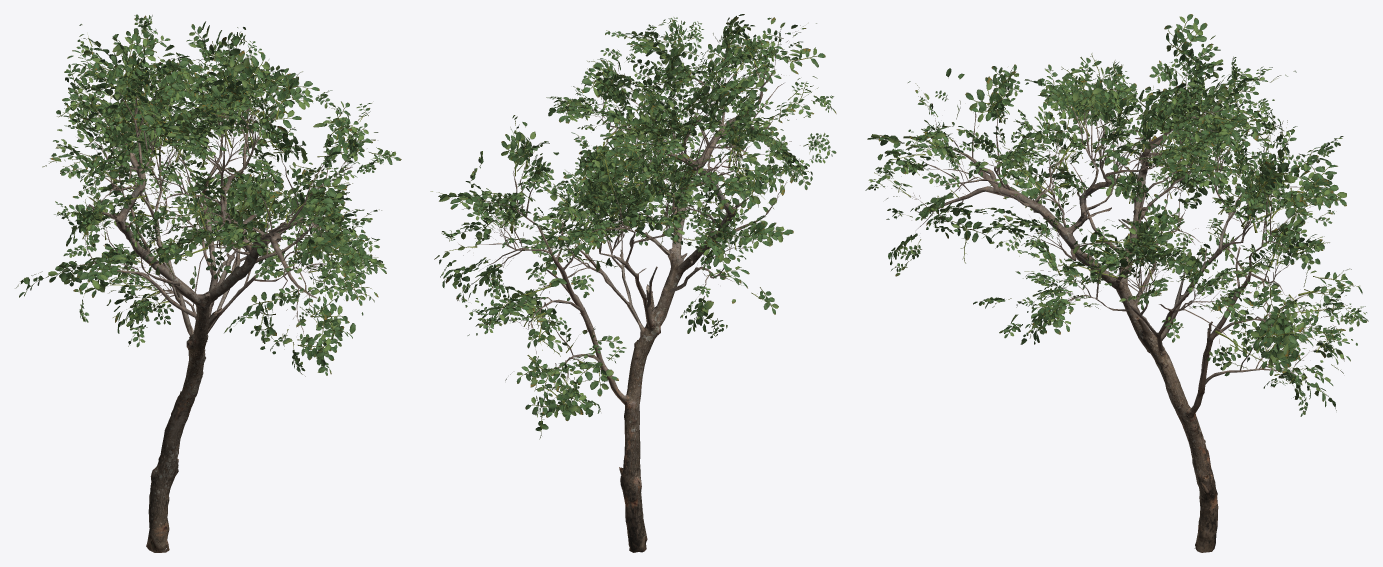
Rendered from tree.gltf.
The picture shows the model from 3 angles, left to right: view 1: azimuth 30°, elevation 25°; view 2: azimuth 150°, elevation 25°; view 3: azimuth 270°, elevation 25°; orthographic projection. The views are drawn at different scales.
Visible parts, largest first — view 1: tree_small_02_LOD0; view 2: tree_small_02_LOD0; view 3: tree_small_02_LOD0.
Boxes of the visible parts, left/top/right/bottom form: tree_small_02_LOD0: left=15, top=14, right=401, bottom=552; tree_small_02_LOD0: left=430, top=14, right=836, bottom=552; tree_small_02_LOD0: left=865, top=14, right=1368, bottom=552.
Size of the model in its own units: 2.95 by 4.61 by 4.25.
Materials: 3 (3 with a texture image).
